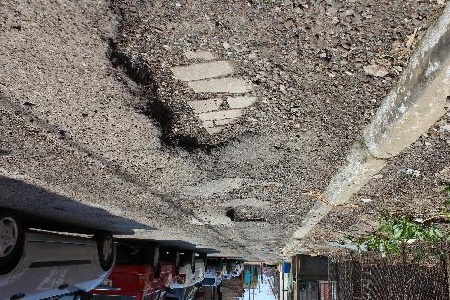pothole: (98, 0, 276, 153), (222, 204, 269, 226)
